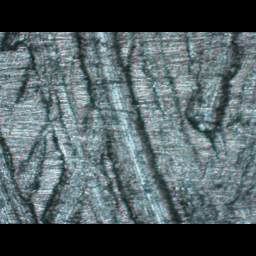d: (0, 32, 184, 222), (170, 45, 255, 154)
